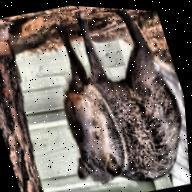boar: (27, 3, 192, 192)
